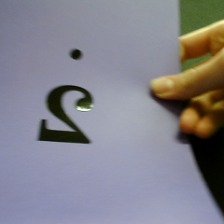violet2: (31, 45, 100, 151)
